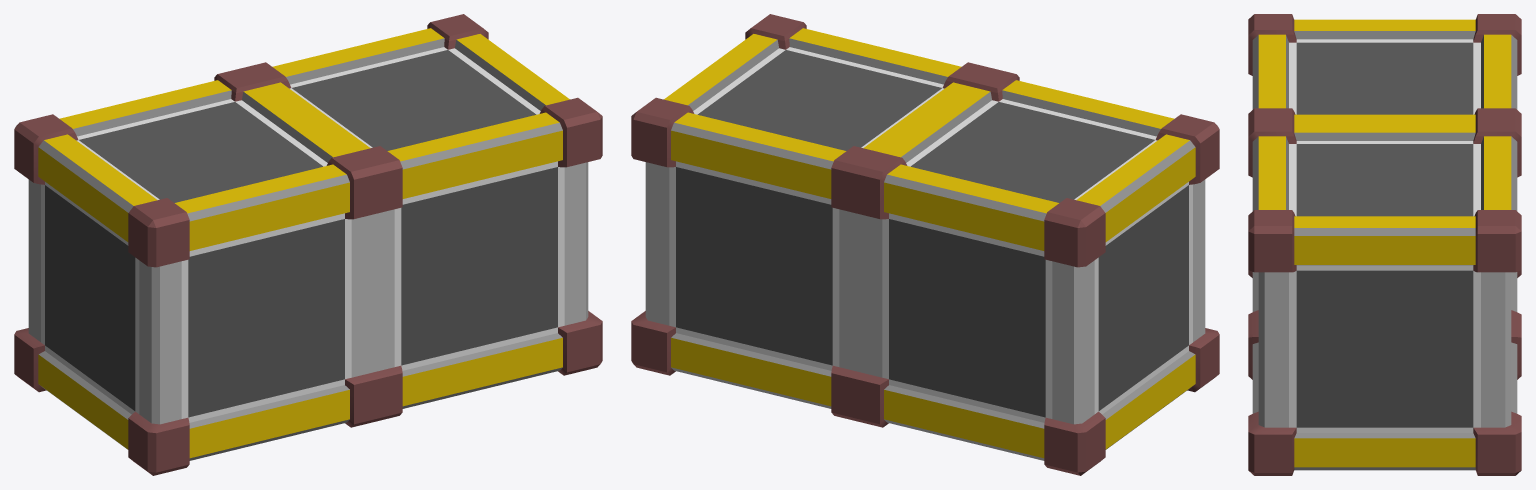
Rendered from CrateMedium.fbx.
3 views of the same model, side by side, from view 1: azimuth 30°, elevation 25°; view 2: azimuth 150°, elevation 25°; view 3: azimuth 270°, elevation 25° (orthographic). The views are drawn at different scales.
Visible parts, largest first — view 1: Crate_medium; view 2: Crate_medium; view 3: Crate_medium.
Part boxes in pixels (x1=…): Crate_medium: x1=14, y1=14, x2=602, y2=475; Crate_medium: x1=631, y1=14, x2=1219, y2=475; Crate_medium: x1=1248, y1=14, x2=1521, y2=475.
Size of the model in its own units: 7.39 by 3.97 by 3.93.
